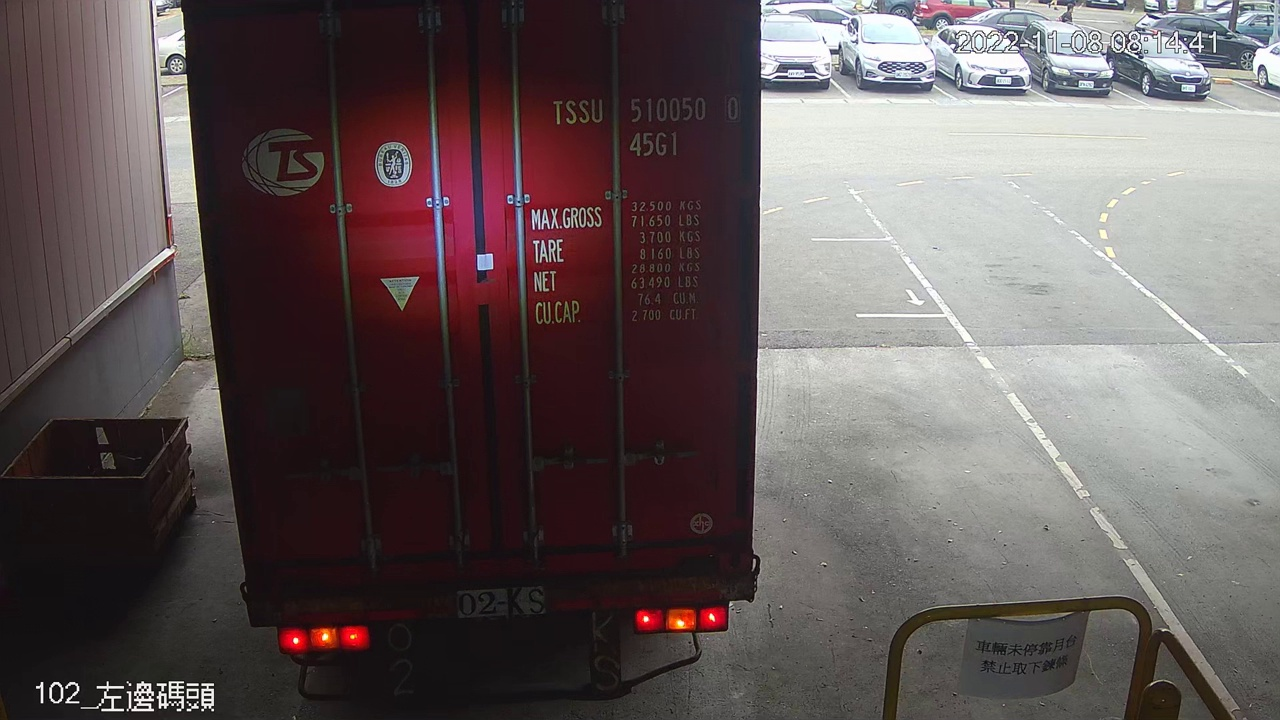container: (545, 80, 746, 171)
